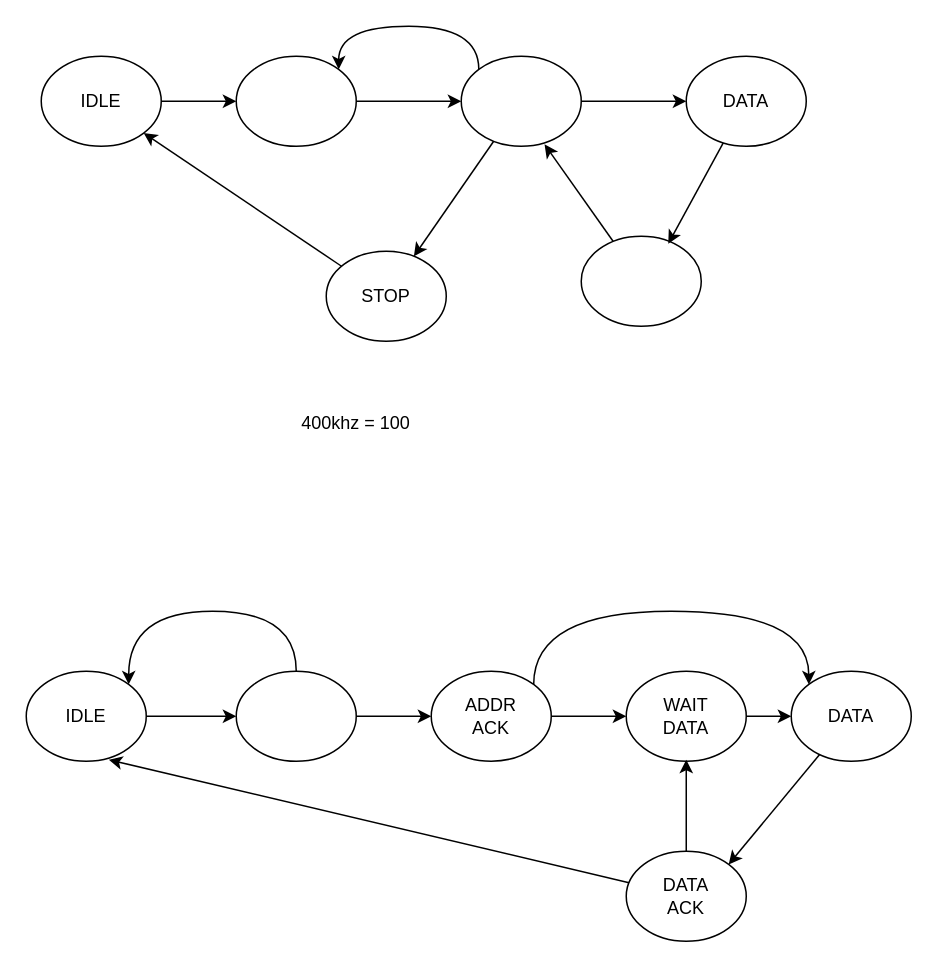
Image size: 938x968. Some labels were removed from this diagram. Each missing label, with the box of its shape:
ACK: (580, 235, 701, 326)
ADDR: (235, 670, 356, 761)
START: (235, 55, 356, 146)
WAIT CMD: (460, 55, 581, 146)
